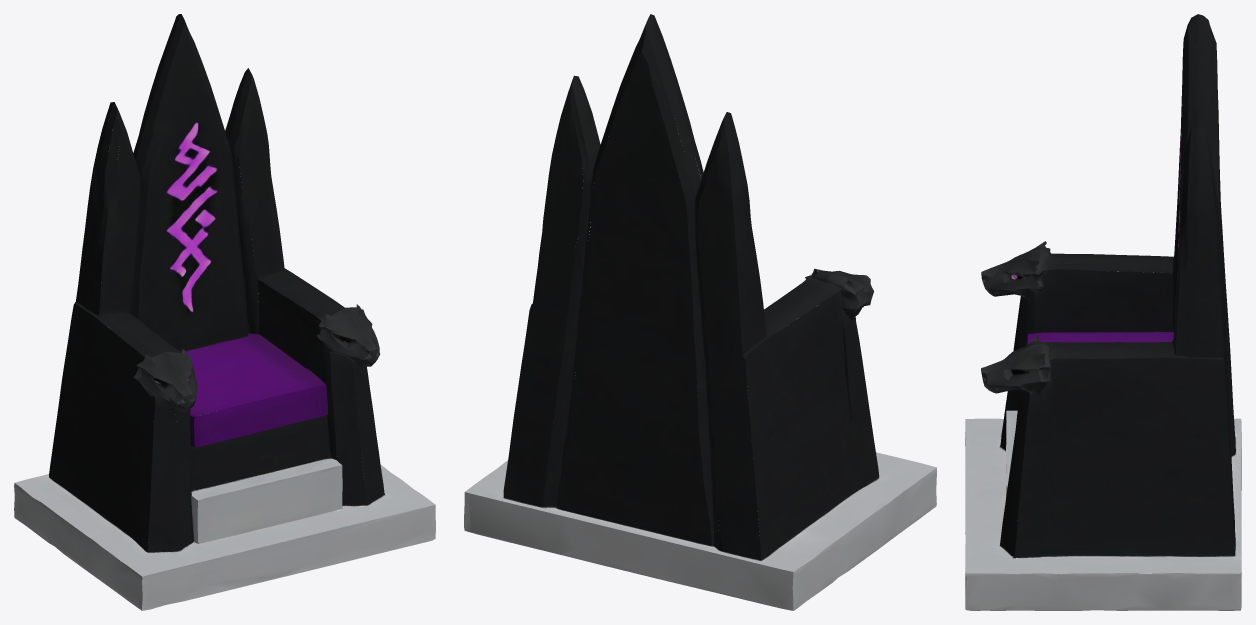
The model's file is throne.glb.
3 renders of one model, left to right at view 1: azimuth 30°, elevation 25°; view 2: azimuth 150°, elevation 25°; view 3: azimuth 270°, elevation 25°, orthographic. The views are drawn at different scales.
Visible parts, largest first — view 1: Ember; view 2: Ember; view 3: Ember.
Part boxes in pixels (x1,y1,x2,y2): Ember: (14,14,435,610); Ember: (464,14,936,610); Ember: (965,14,1241,610).
Size of the model in its own units: 1.09 by 1.71 by 0.8233.
1 material, 1 textured.
